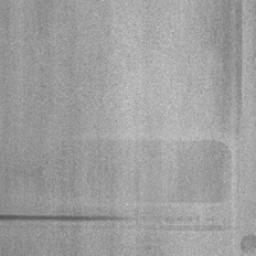Crease: (0, 214, 134, 221)
